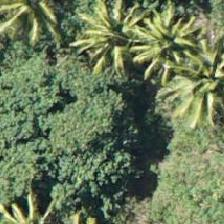coconut_tree: (156, 0, 223, 85), (165, 50, 223, 140)
